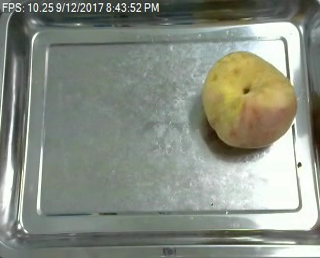Peach: (199, 50, 297, 149)
